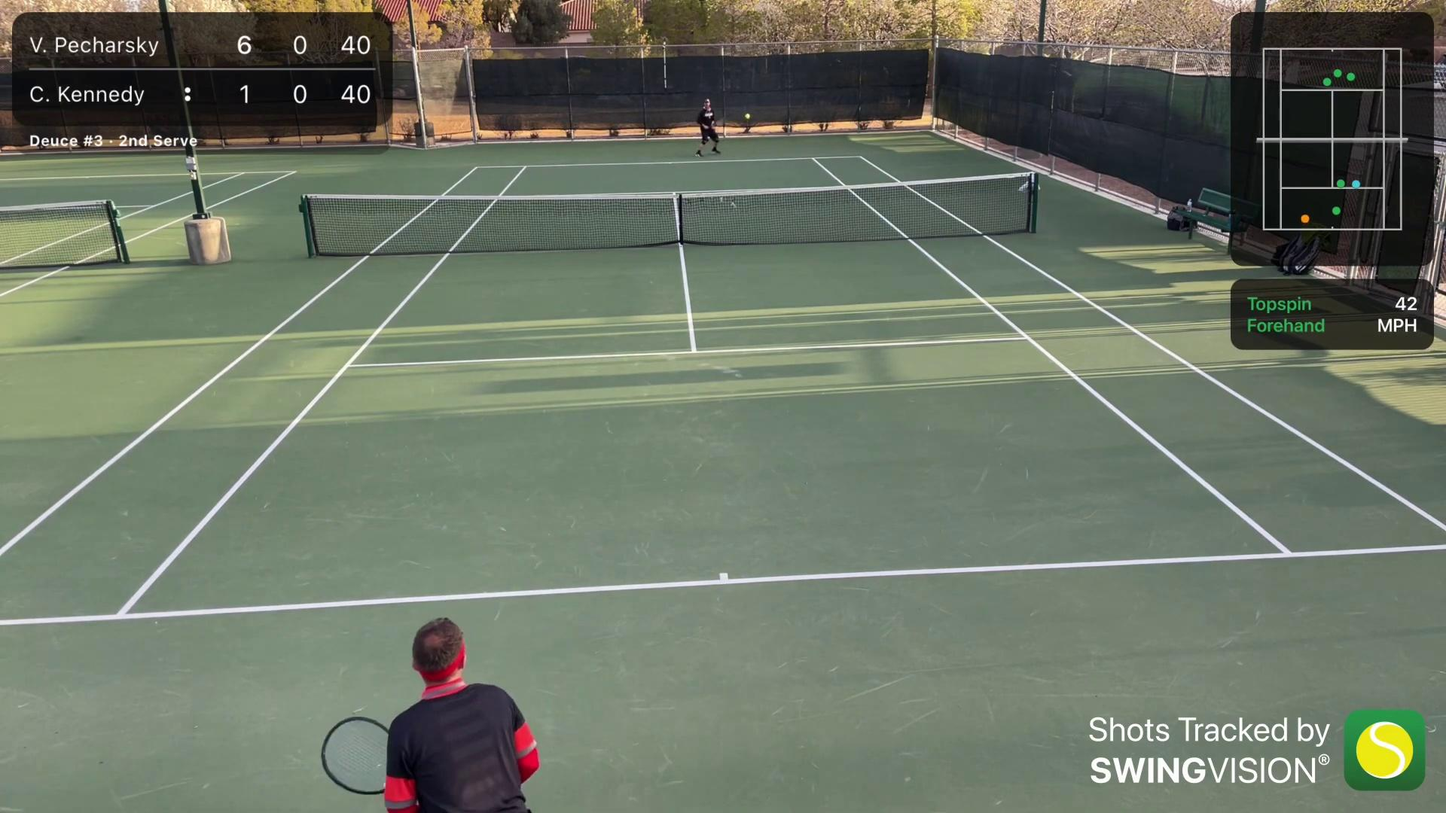ball: (743, 112, 751, 121)
